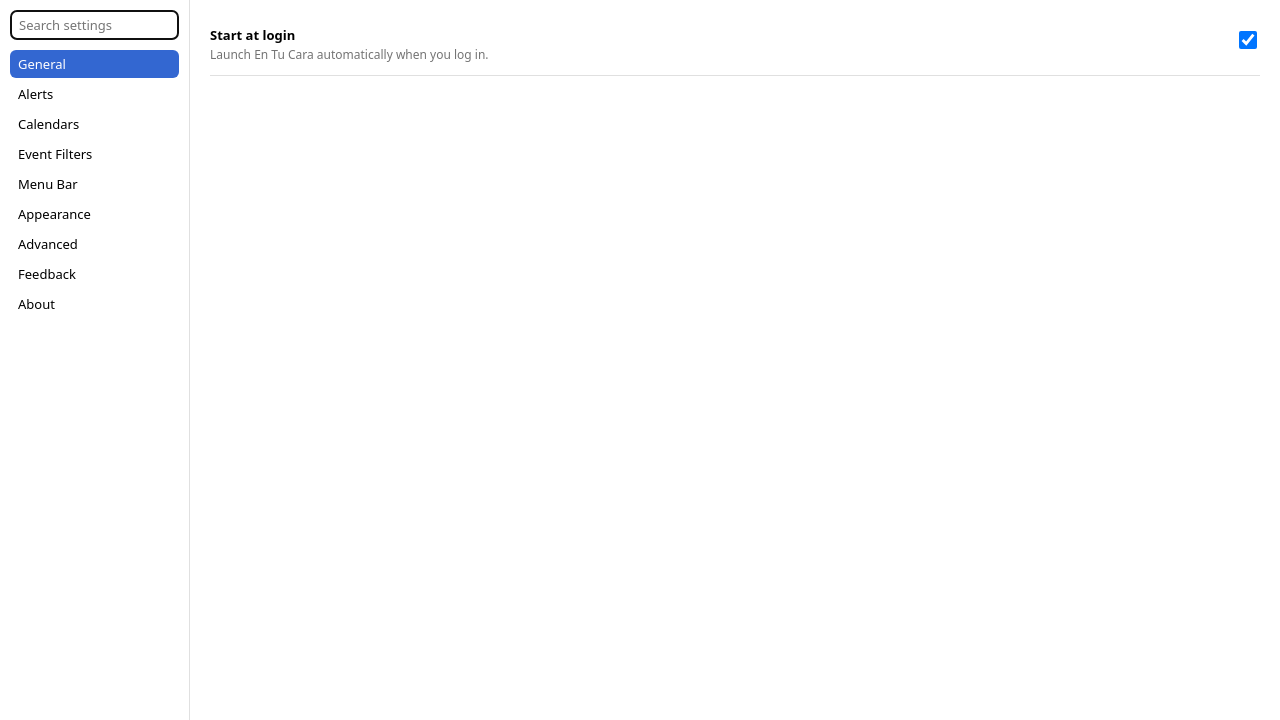
Test: SettingsWindow › fuzzy search 'snooze' ranks the snooze setting first and highlights the match
Type "snooze" into the search field labelled "Search settings". click: (94, 25)
box: [10,10,179,40]
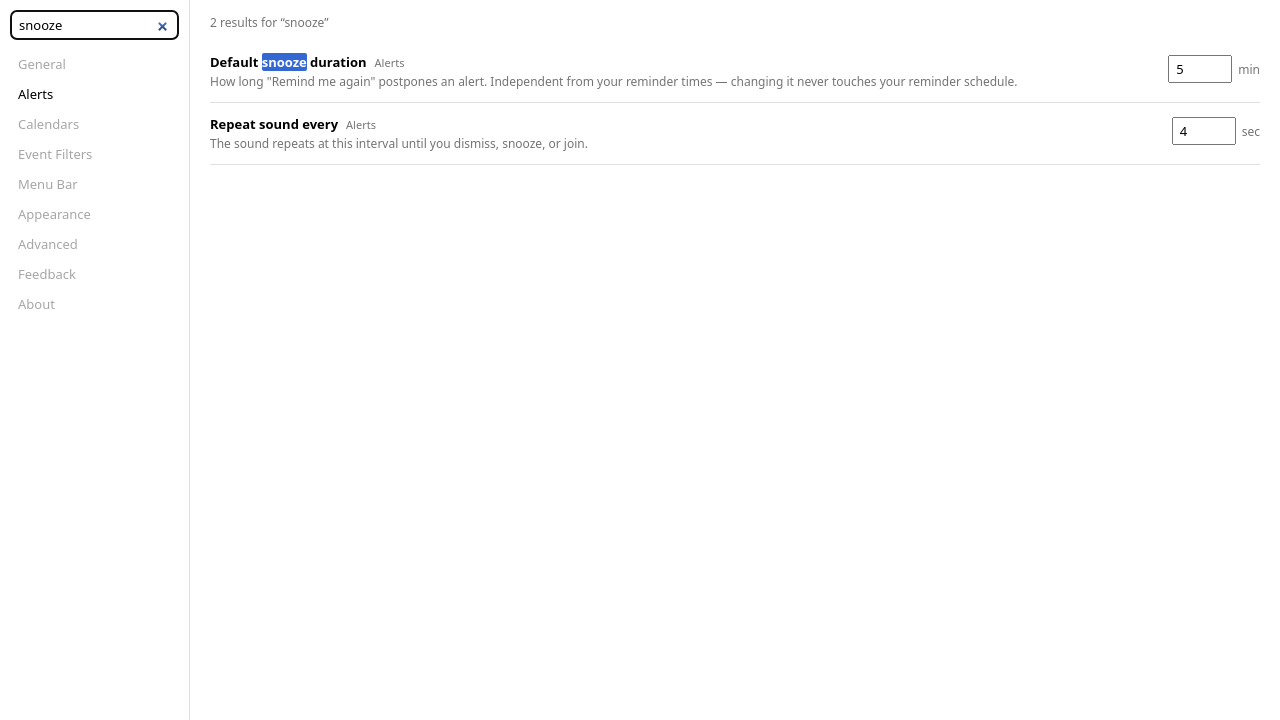
Now the text "2 results for “snooze”" is shown, box [210,14,328,31]
Now the text "snooze" is shown, box [262,53,307,71]
Now the text "Start at login" is gone
